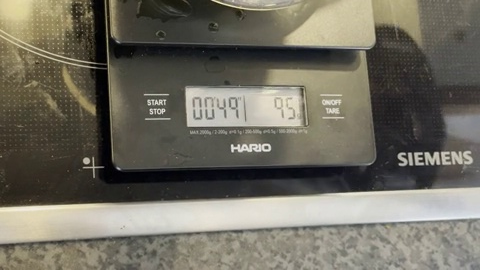display: (186, 85, 305, 126)
